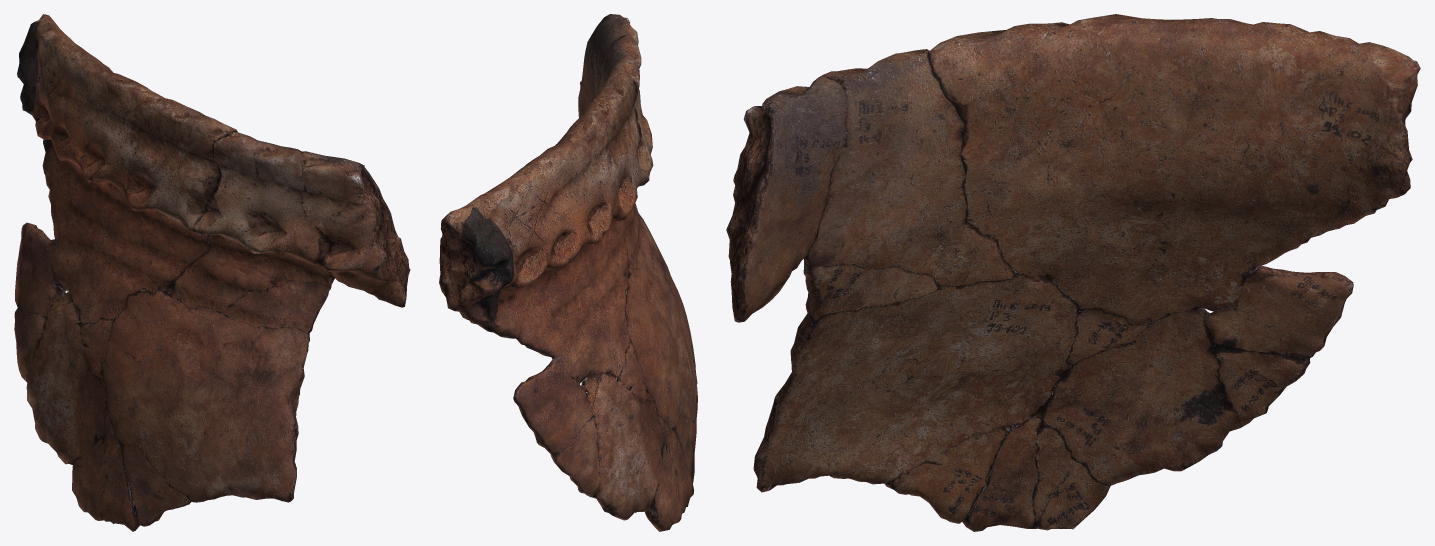
The model's file is cup2_low_re.glb.
The picture shows the model from 3 angles, left to right: view 1: azimuth 30°, elevation 25°; view 2: azimuth 150°, elevation 25°; view 3: azimuth 270°, elevation 25°; orthographic projection. The views are drawn at different scales.
Visible parts, largest first — view 1: Model; view 2: Model; view 3: Model.
Part boxes in pixels (bbox=[...]): Model: bbox=[14, 14, 410, 531]; Model: bbox=[439, 14, 697, 531]; Model: bbox=[726, 14, 1420, 531].
Bounding box in the file's own units: 1.63 × 3.01 × 3.45.
Materials: 1 (1 with a texture image).
